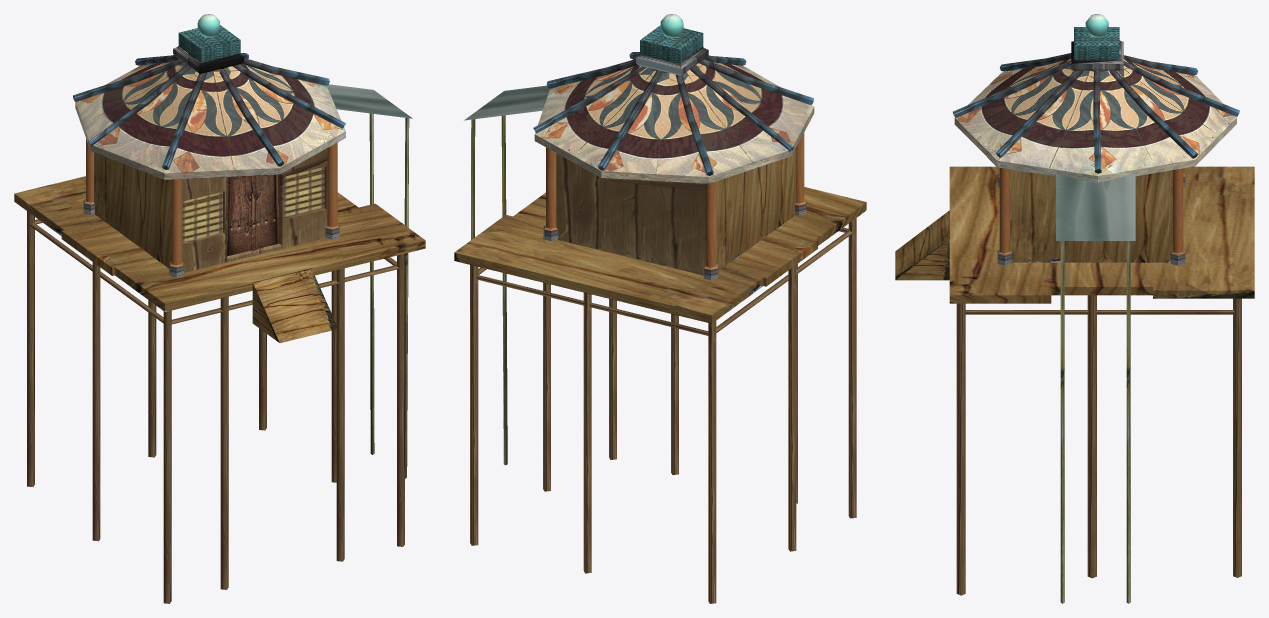
Rendered from Casa.fbx.
The picture shows the model from 3 angles, left to right: view 1: azimuth 30°, elevation 25°; view 2: azimuth 150°, elevation 25°; view 3: azimuth 270°, elevation 25°; orthographic projection. The views are drawn at different scales.
Visible parts, largest first — view 1: Cylinder001; view 2: Cylinder001; view 3: Cylinder001.
Boxes of the visible parts, x1=… form: Cylinder001: x1=14, y1=14, x2=425, y2=603; Cylinder001: x1=454, y1=14, x2=866, y2=603; Cylinder001: x1=895, y1=14, x2=1254, y2=603.
Size of the model in its own units: 1180 by 1902 by 1198.
Materials: 1 (1 with a texture image).
